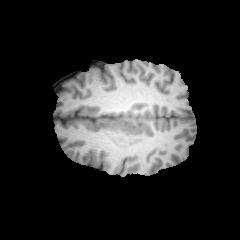glioma: (103, 117, 150, 147)
